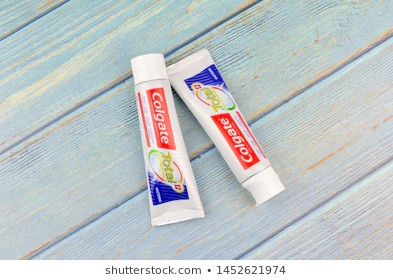colgate-total-150gm: (162, 35, 289, 212), (141, 45, 192, 233)
